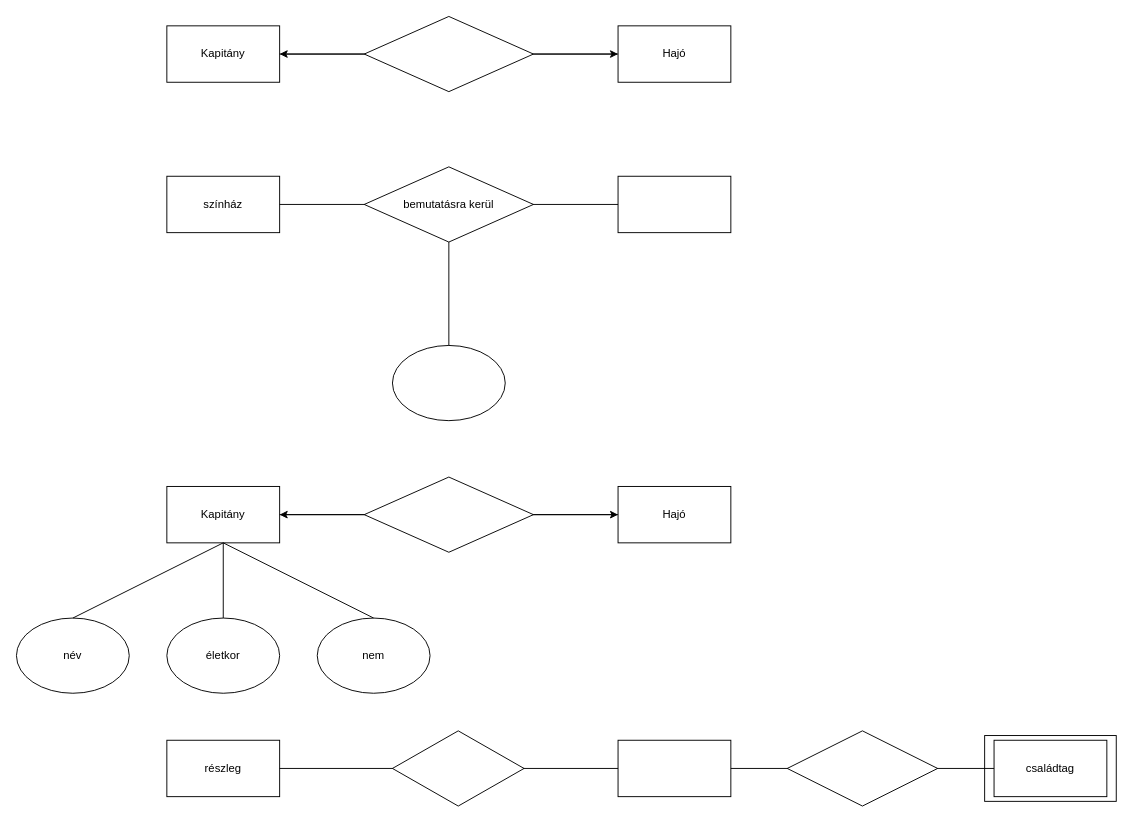
The diagram is 1133 pixels wide and 823 high, and some of its shapes have lost their labels. Each missing label, with the centre of its shape:
dolgozó: (674,768)
időpont: (448,383)
színházi előadás: (674,204)
